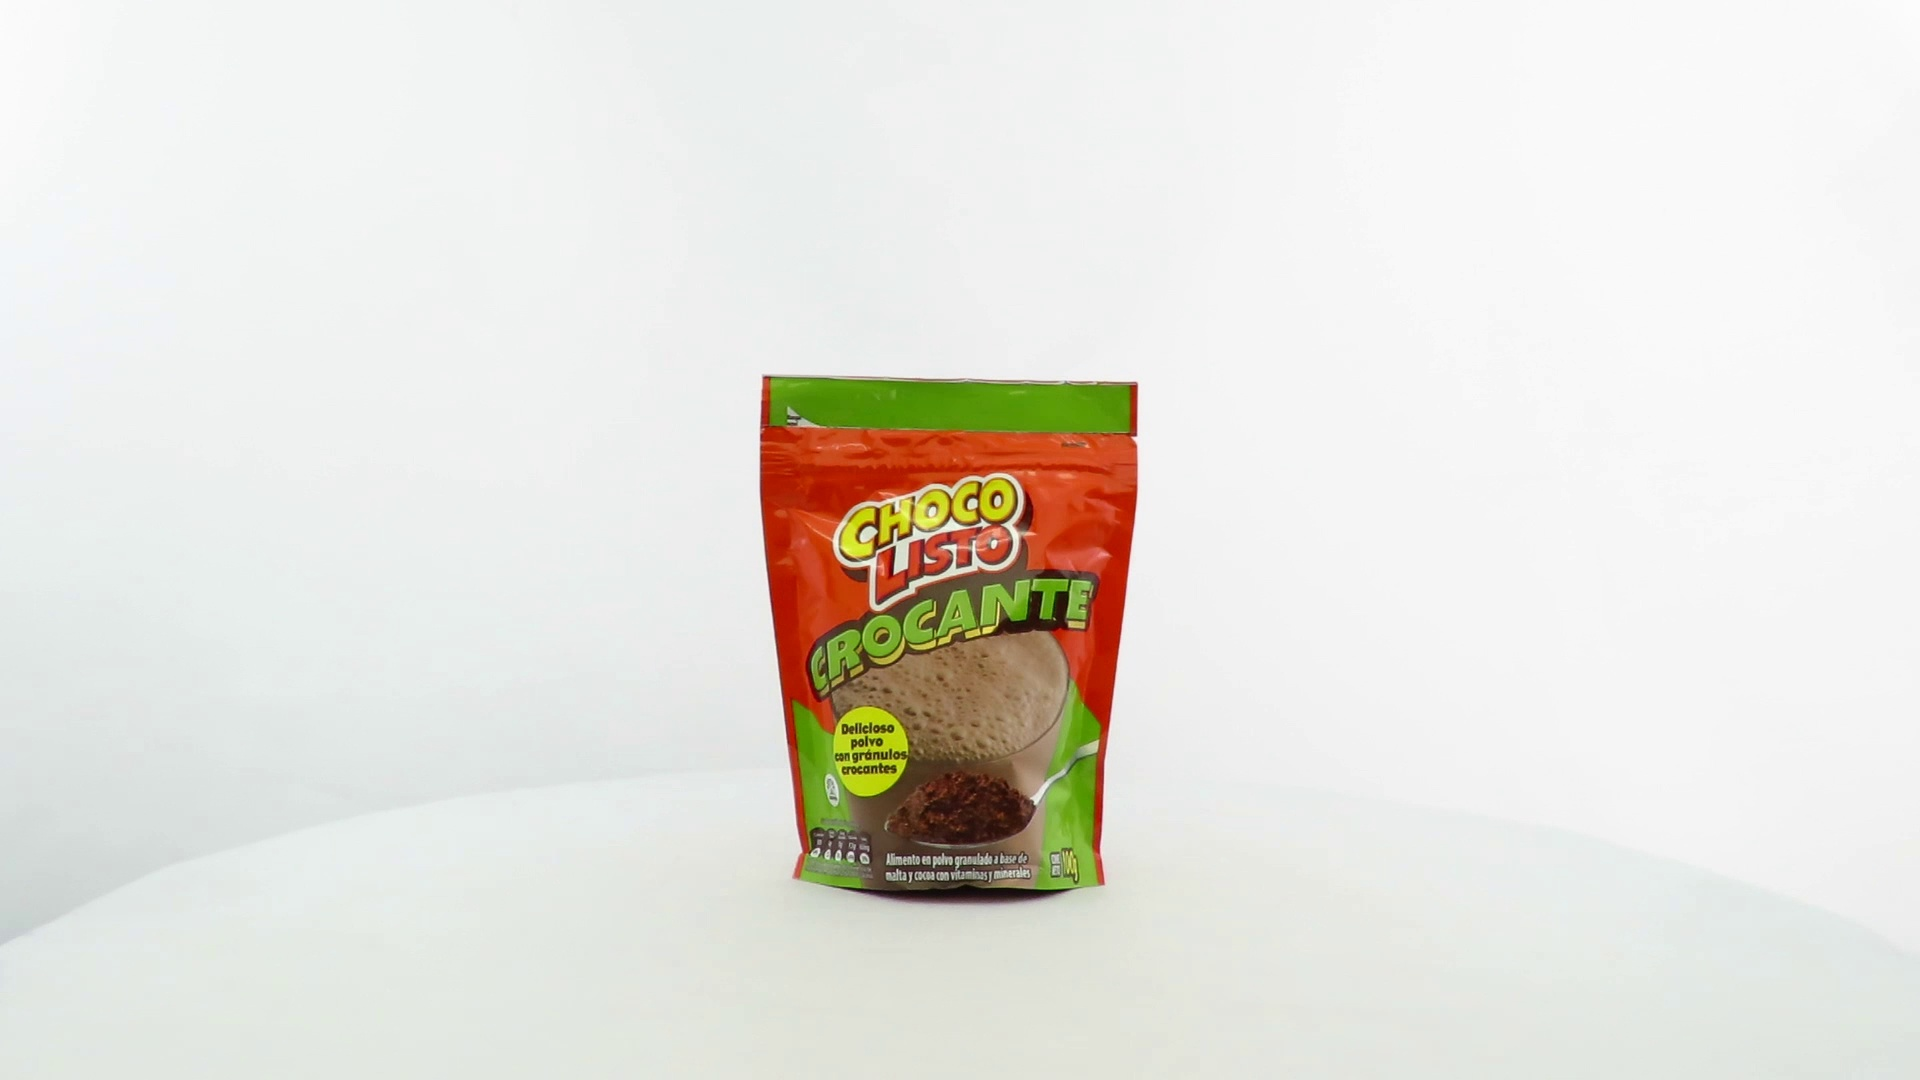COL0170102DYP10000: (754, 371, 1145, 910)
